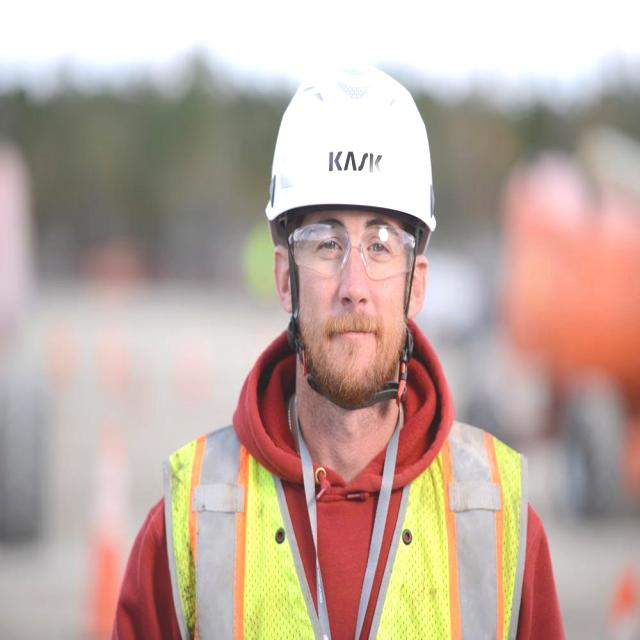face_nomask: (287, 210, 424, 394)
glasses: (282, 220, 422, 280)
head_helmet: (272, 51, 444, 245)
person: (112, 50, 574, 635)
vest: (165, 407, 525, 633)
